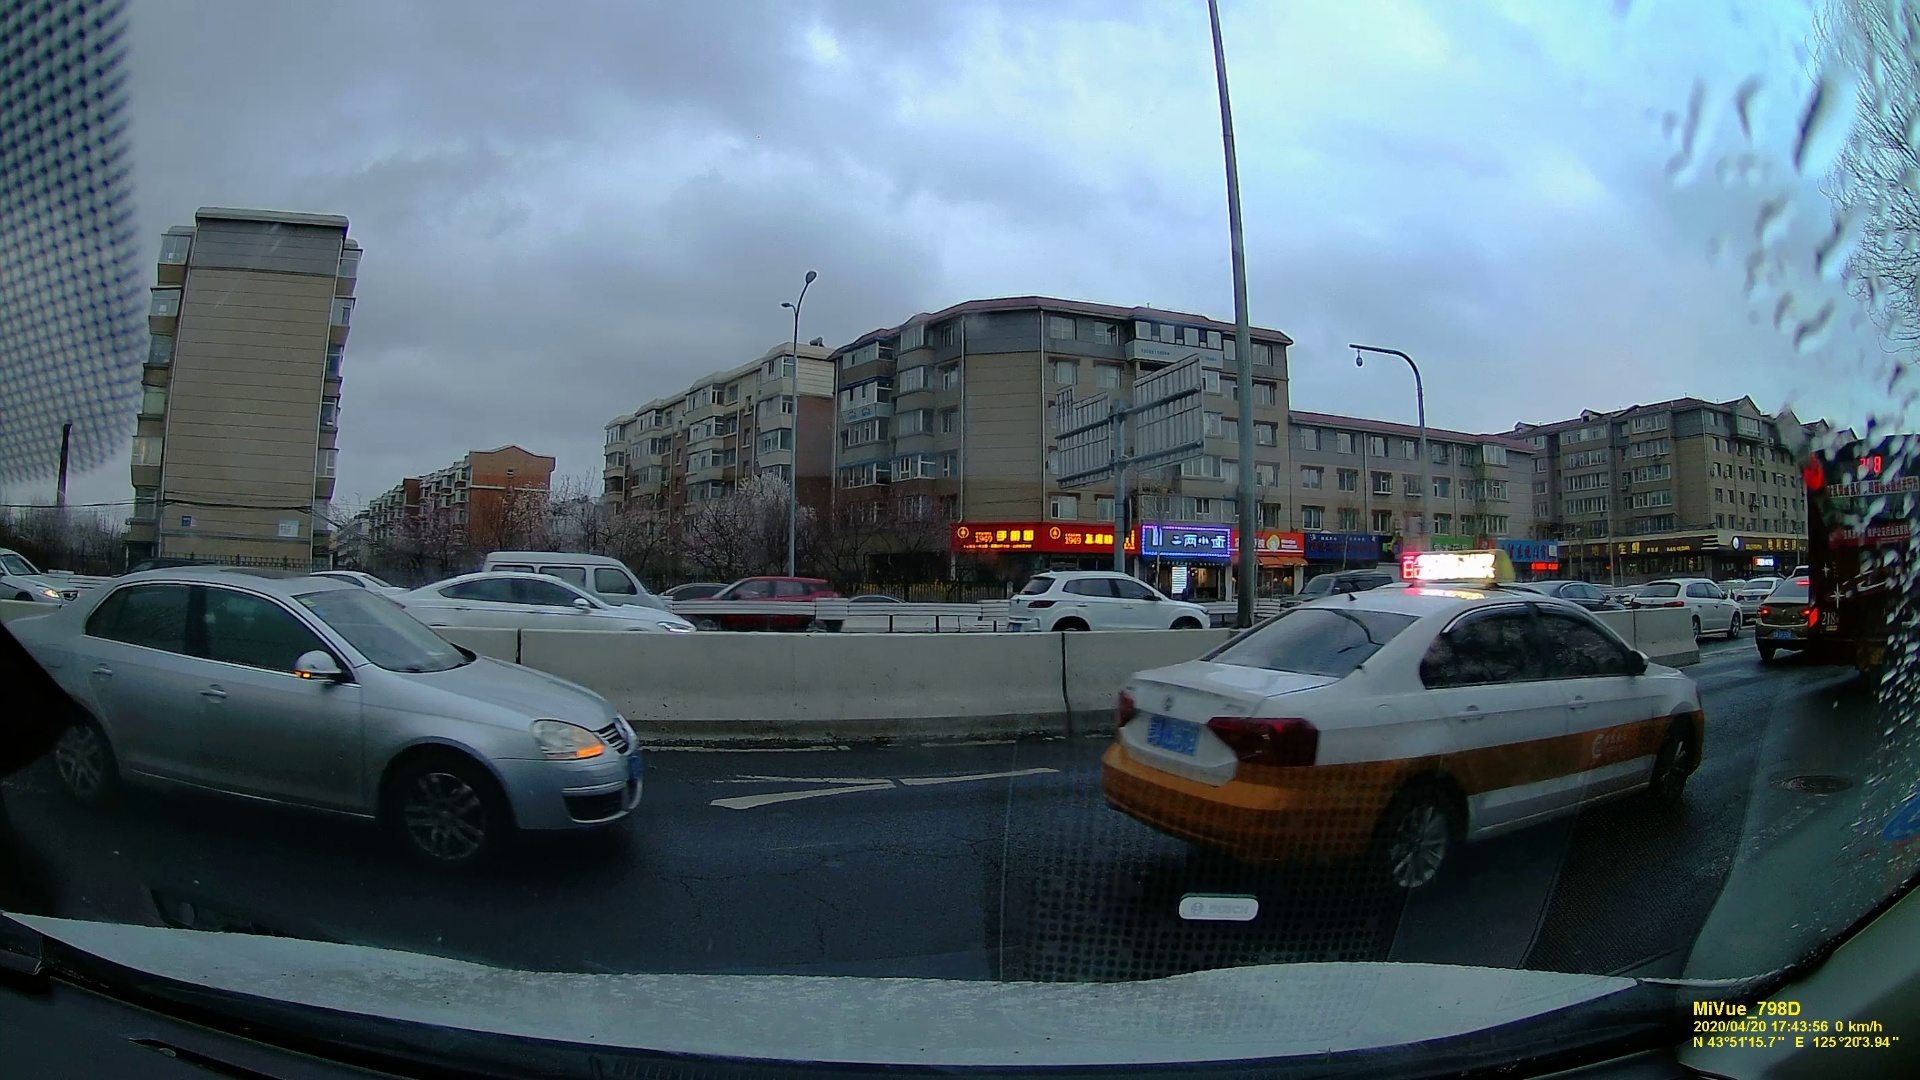bus: (1803, 430, 1920, 669)
vehicle: (16, 574, 644, 847), (1108, 589, 1701, 870), (390, 571, 649, 636), (1011, 568, 1211, 640), (680, 575, 843, 632), (1630, 578, 1741, 636), (1, 549, 78, 609), (1755, 580, 1808, 659)
